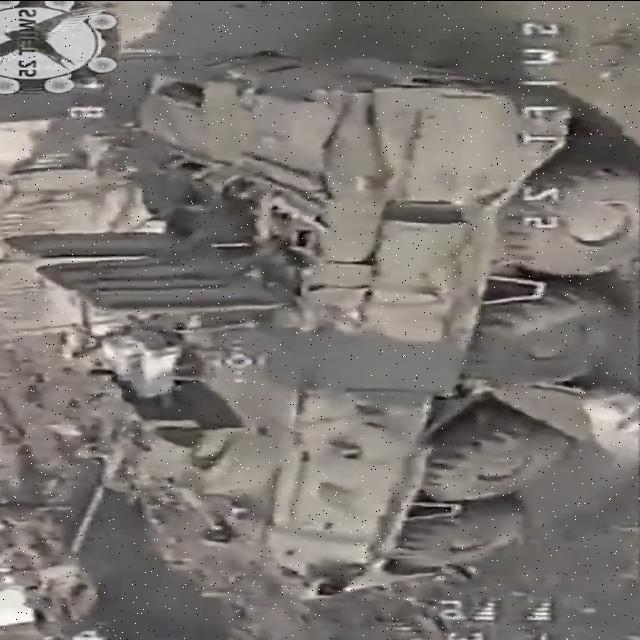APC-IFV: (56, 54, 630, 596)
